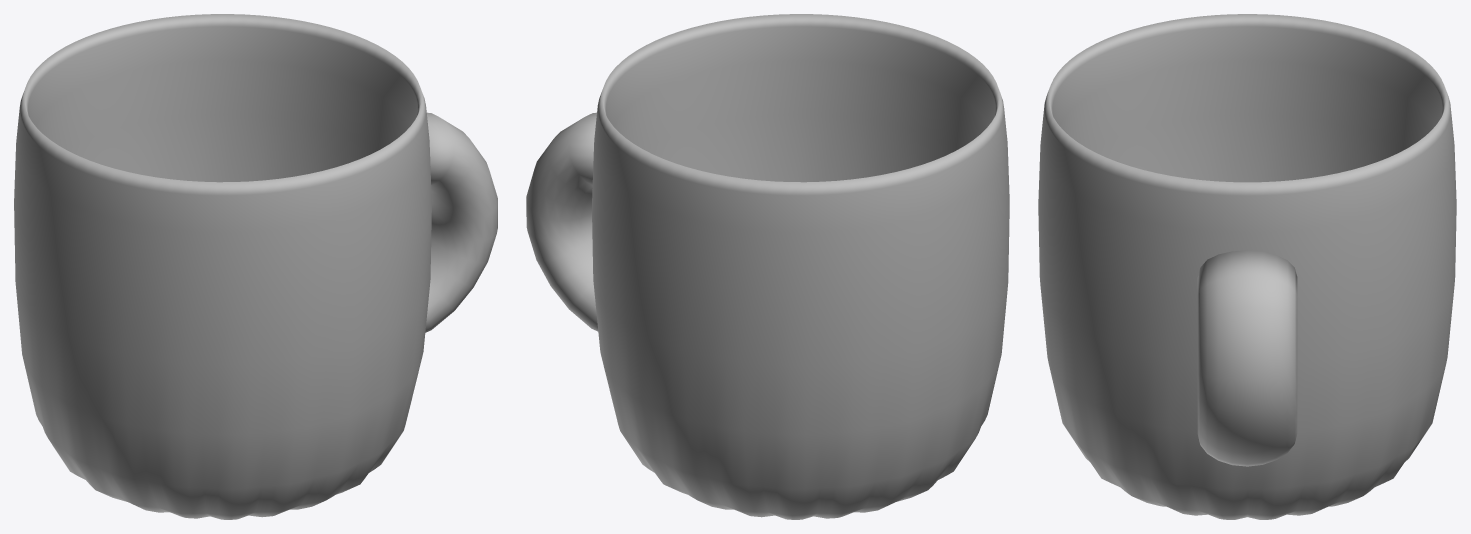
Rendered from Taza.fbx.
3 renders of one model, left to right at view 1: azimuth 30°, elevation 25°; view 2: azimuth 150°, elevation 25°; view 3: azimuth 270°, elevation 25°, orthographic.
Parts seen in each view (by area): view 1: Taza_Base; view 2: Taza_Base; view 3: Taza_Base.
Part boxes in pixels (left/top/right/bottom): Taza_Base: left=14, top=14, right=497, bottom=519; Taza_Base: left=526, top=14, right=1009, bottom=519; Taza_Base: left=1038, top=14, right=1456, bottom=519.
Size of the model in its own units: 48.38 by 38.5 by 39.12.
Materials: 1 (1 with a texture image).
